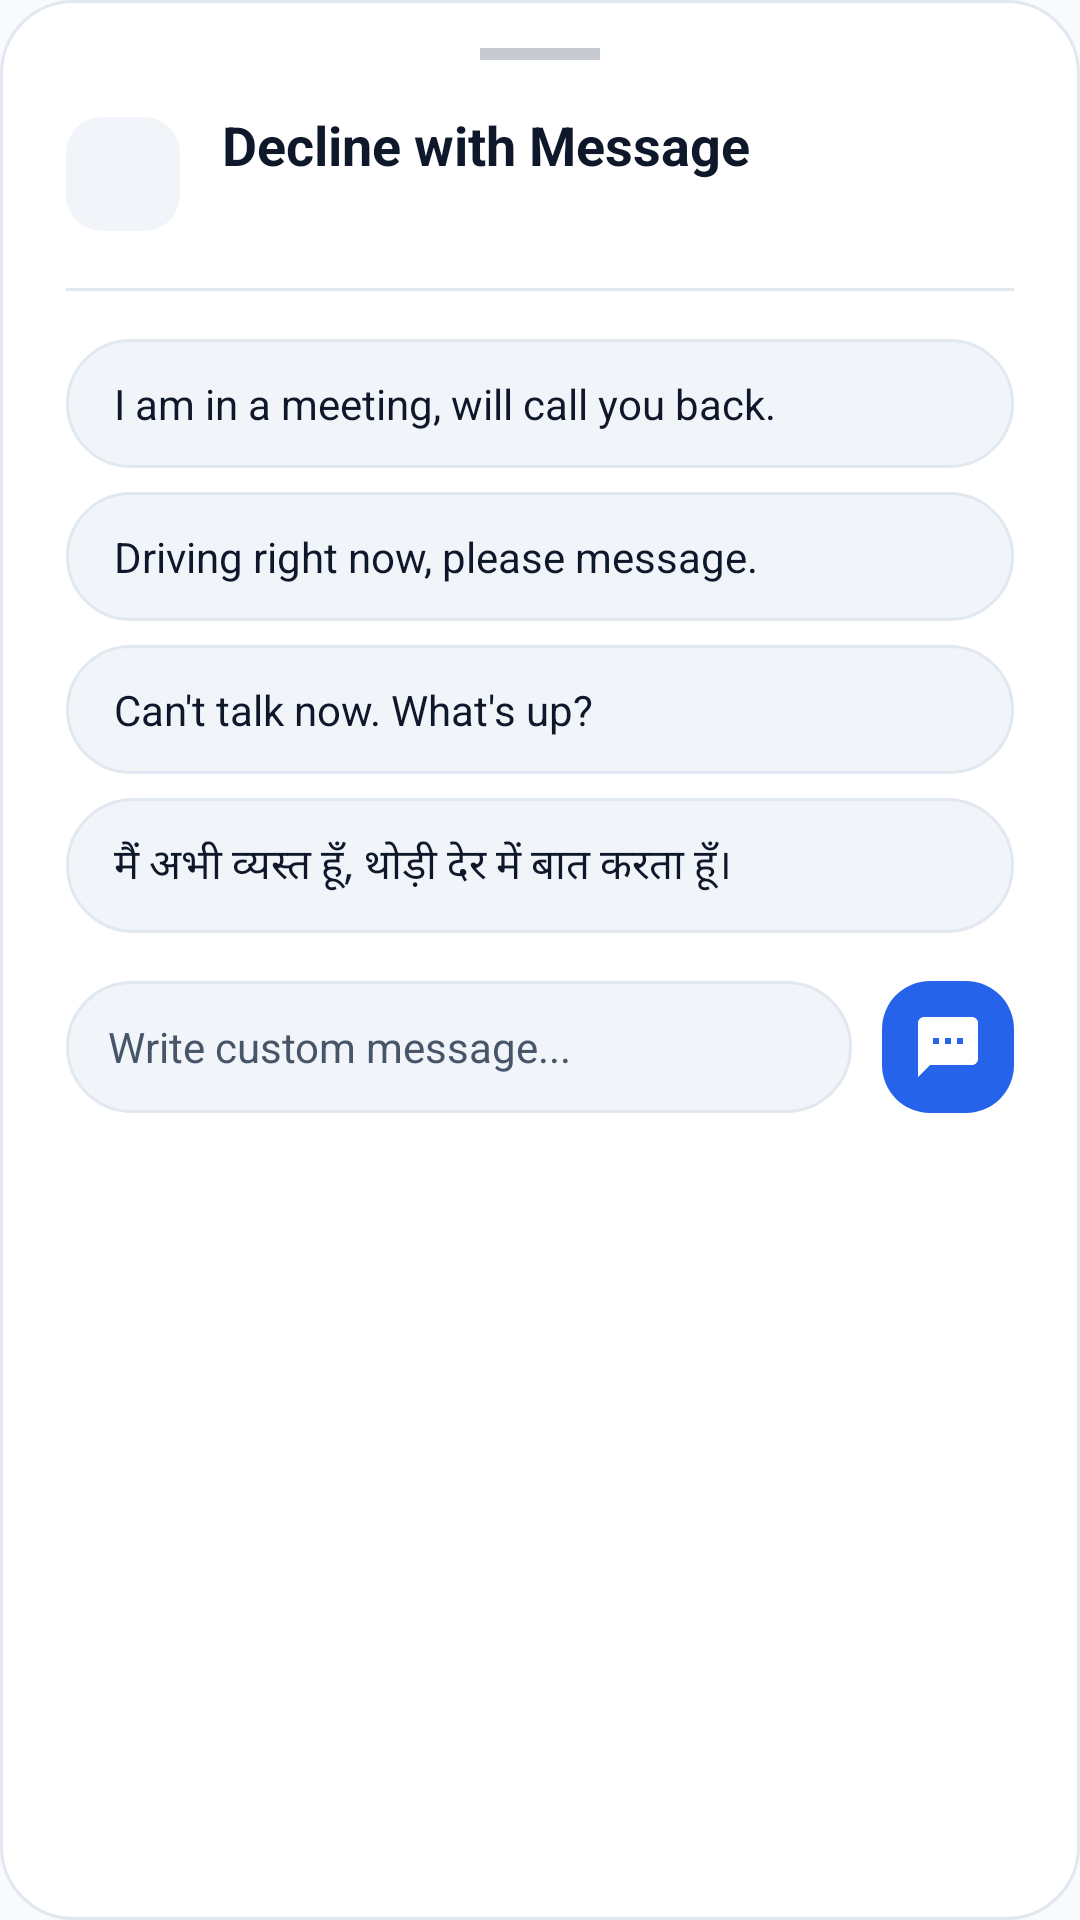

Icon click points for this 1080 x 1920 phone screenshot, format point (x, y):
Quick Reply: point (948, 1047)
